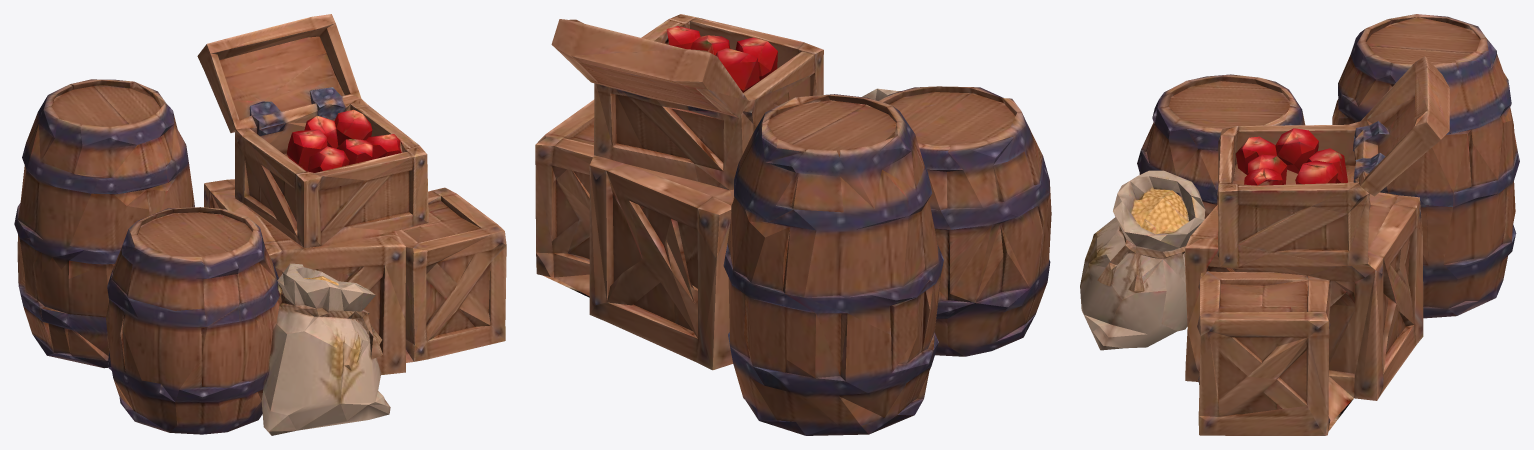
Rendered from town_barrels.glb.
3 views of the same model, side by side, from view 1: azimuth 30°, elevation 25°; view 2: azimuth 150°, elevation 25°; view 3: azimuth 270°, elevation 25° (orthographic). The views are drawn at different scales.
Parts seen in each view (by area): view 1: output_unwrapped; view 2: output_unwrapped; view 3: output_unwrapped.
Part boxes in pixels (box(x1,y1,x2,y2)): output_unwrapped: box(14, 14, 506, 435); output_unwrapped: box(535, 14, 1051, 435); output_unwrapped: box(1080, 14, 1519, 435).
Bounding box in the file's own units: 1.9 × 1.28 × 1.81.
Materials: 1 (1 with a texture image).
